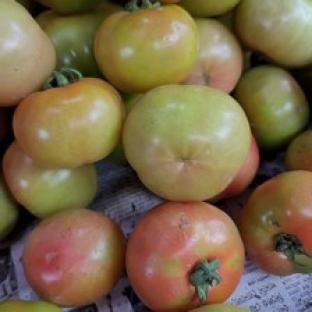Tomato: (123, 84, 250, 200), (126, 202, 245, 311), (23, 208, 125, 307), (13, 78, 125, 167), (95, 5, 197, 93), (239, 170, 311, 275), (3, 141, 97, 218), (233, 65, 309, 150), (37, 2, 122, 76), (184, 19, 243, 93), (214, 136, 260, 201), (0, 170, 19, 242), (285, 129, 311, 171), (0, 300, 61, 311), (190, 304, 250, 311)
